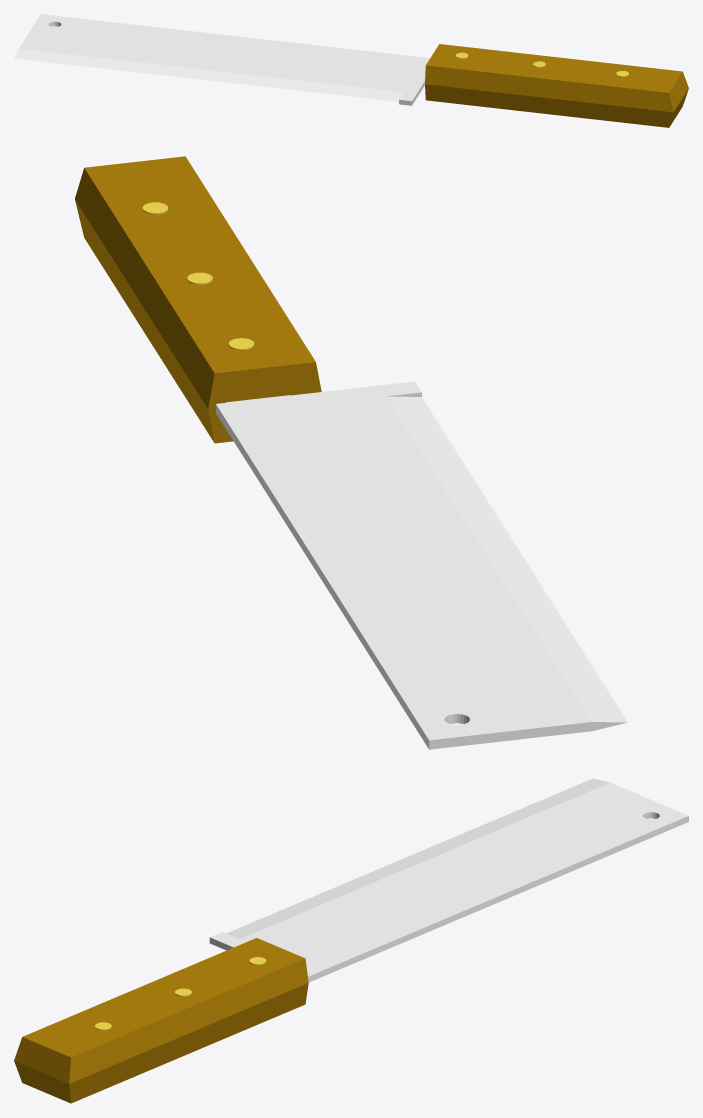
Rendered from Knife.fbx.
3 renders of one model, top to bottom at view 1: azimuth 30°, elevation 25°; view 2: azimuth 150°, elevation 25°; view 3: azimuth 270°, elevation 25°, orthographic. The views are drawn at different scales.
Parts seen in each view (by area): view 1: Knife; view 2: Knife; view 3: Knife.
Boxes of the visible parts, x1,y1,x2,y2 form: Knife: (14,14,688,127); Knife: (75,156,627,749); Knife: (14,778,688,1103).
Bounding box in the file's own units: 21.33 × 1.56 × 19.92.
